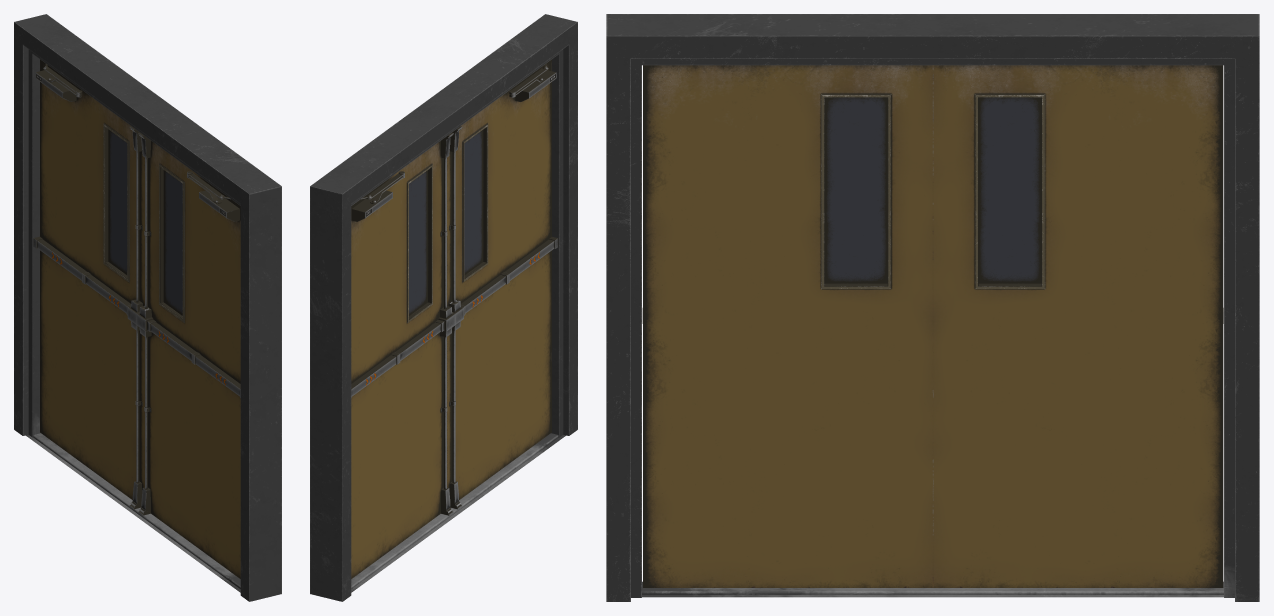
File: double_door.glb
The picture shows the model from 3 angles, left to right: view 1: azimuth 30°, elevation 25°; view 2: azimuth 150°, elevation 25°; view 3: azimuth 270°, elevation 25°; orthographic projection. The views are drawn at different scales.
Parts seen in each view (by area): view 1: 02_02_0, 01_01_0.001, 01_01_0; view 2: 02_02_0, 01_01_0, 01_01_0.001; view 3: 01_01_0.001, 01_01_0, 02_02_0.
Boxes of the visible parts, left/top/right/bottom form: 02_02_0: left=14, top=14, right=281, bottom=601; 01_01_0.001: left=33, top=59, right=144, bottom=509; 01_01_0: left=136, top=132, right=240, bottom=578; 02_02_0: left=310, top=14, right=577, bottom=601; 01_01_0: left=447, top=59, right=558, bottom=509; 01_01_0.001: left=351, top=132, right=455, bottom=578; 01_01_0.001: left=932, top=65, right=1223, bottom=587; 01_01_0: left=642, top=65, right=933, bottom=587; 02_02_0: left=606, top=14, right=1259, bottom=601.
Bounding box in the file's own units: 2.47 × 28.94 × 30.28.
Materials: 2 (2 with a texture image).
